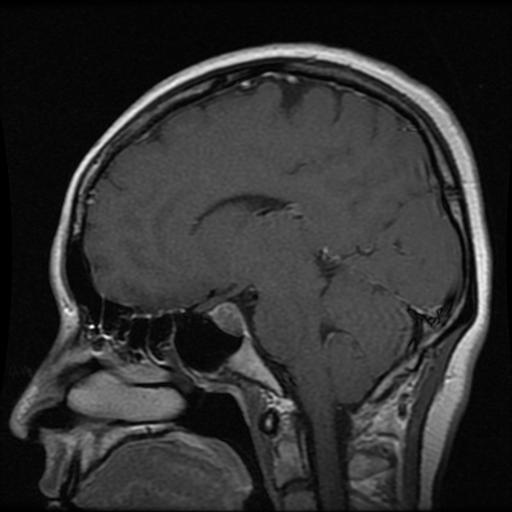Pituirity_tumour: (211, 300, 245, 334)
